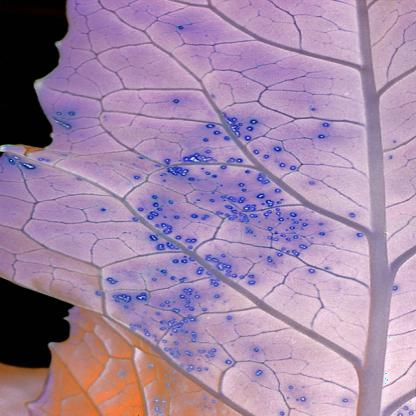tomato leaf bacterial spot: (21, 11, 415, 401)
